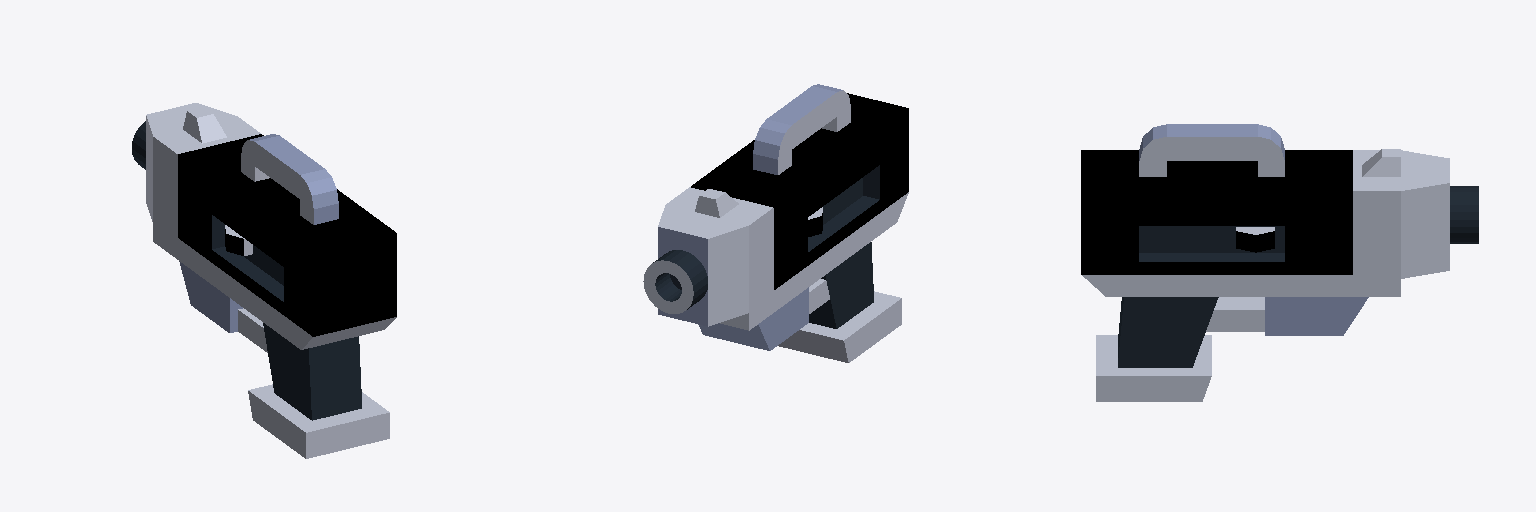
The model's file is pistol.obj.
3 views of the same model, side by side, from view 1: azimuth 30°, elevation 25°; view 2: azimuth 150°, elevation 25°; view 3: azimuth 270°, elevation 25° (orthographic).
Parts seen in each view (by area): view 1: blasterB_pink_0, blasterB_metal_0, blasterB_dark_0, blasterB_darkMetal_0; view 2: blasterB_metal_0, blasterB_pink_0, blasterB_darkMetal_0, blasterB_dark_0; view 3: blasterB_metal_0, blasterB_pink_0, blasterB_dark_0, blasterB_darkMetal_0.
Part boxes in pixels (left/top/right/bottom): blasterB_pink_0: left=178, top=134, right=396, bottom=336; blasterB_metal_0: left=146, top=103, right=396, bottom=458; blasterB_dark_0: left=132, top=121, right=361, bottom=420; blasterB_darkMetal_0: left=179, top=134, right=338, bottom=332; blasterB_metal_0: left=643, top=90, right=908, bottom=362; blasterB_pink_0: left=691, top=93, right=908, bottom=289; blasterB_darkMetal_0: left=658, top=84, right=842, bottom=350; blasterB_dark_0: left=653, top=165, right=879, bottom=328; blasterB_metal_0: left=1082, top=137, right=1449, bottom=401; blasterB_pink_0: left=1081, top=150, right=1352, bottom=274; blasterB_dark_0: left=1118, top=186, right=1478, bottom=367; blasterB_darkMetal_0: left=1139, top=124, right=1368, bottom=335.
Size of the model in its own units: 0.1 by 0.2859 by 0.41.